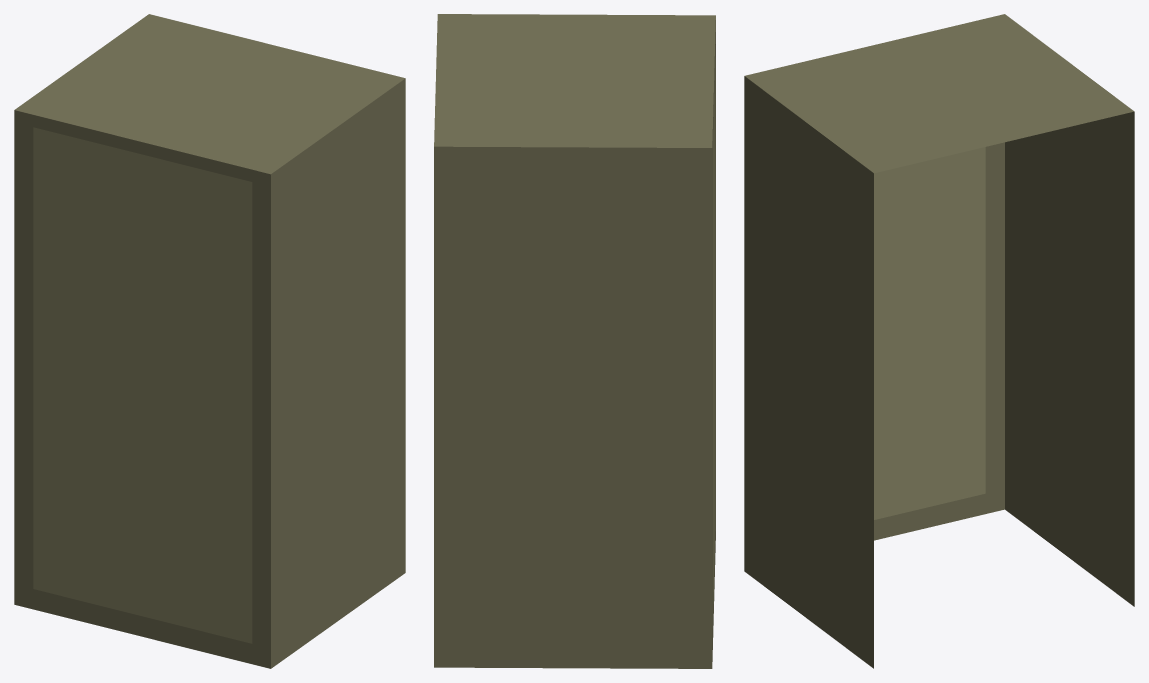
Rendered from MSH_QuestObject_cabinet_06.fbx.
3 renders of one model, left to right at view 1: azimuth 30°, elevation 25°; view 2: azimuth 150°, elevation 25°; view 3: azimuth 270°, elevation 25°, orthographic. The views are drawn at different scales.
Visible parts, largest first — view 1: MSH_QuestObject_cabinet_06; view 2: MSH_QuestObject_cabinet_06; view 3: MSH_QuestObject_cabinet_06.
Part boxes in pixels (x1,y1,x2,y2): MSH_QuestObject_cabinet_06: [14, 14, 405, 668]; MSH_QuestObject_cabinet_06: [434, 14, 715, 668]; MSH_QuestObject_cabinet_06: [744, 14, 1134, 668].
Bounding box in the file's own units: 0.7112 × 1.03 × 0.7358.
